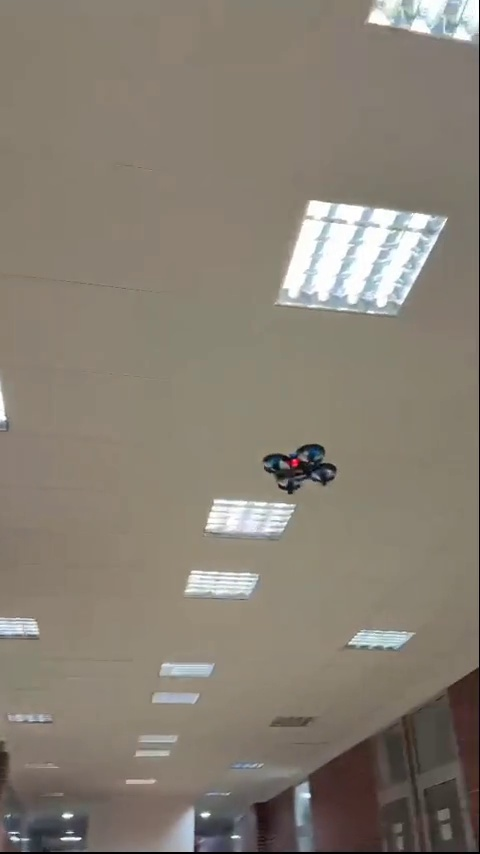drone: (265, 440, 336, 491)
